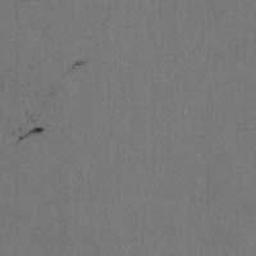Inclusion: (18, 127, 45, 141)
